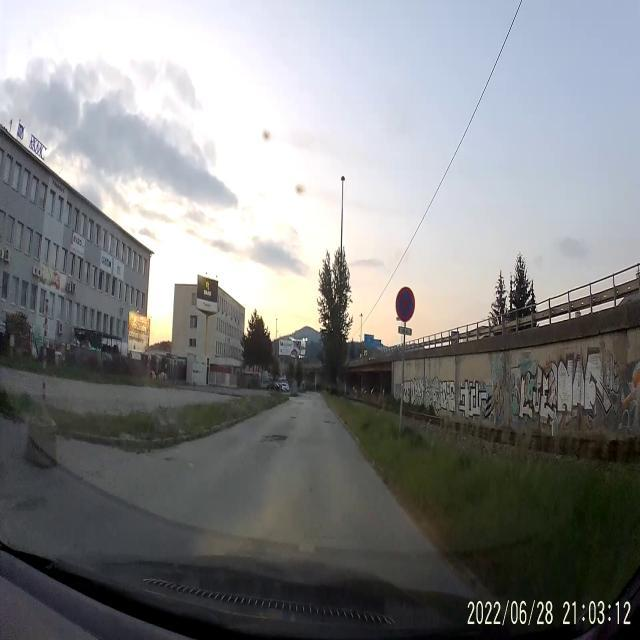Pothole: (262, 429, 288, 448), (324, 418, 337, 428), (163, 454, 174, 464), (290, 412, 297, 420)
